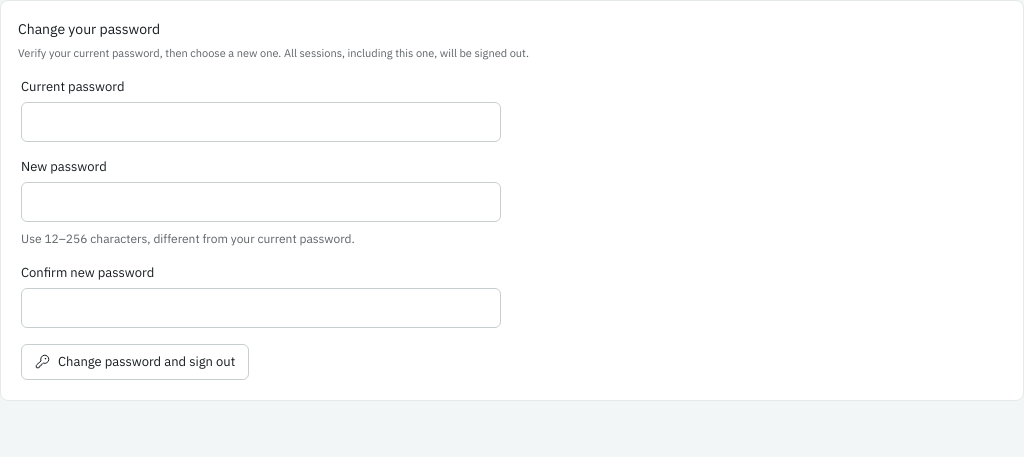
Scenario: operational feature views › requires matching new passwords without sending a request
Type "Old-password-2026" into the password field labelled "Current password". click: (261, 122)
box: [21,102,501,142]
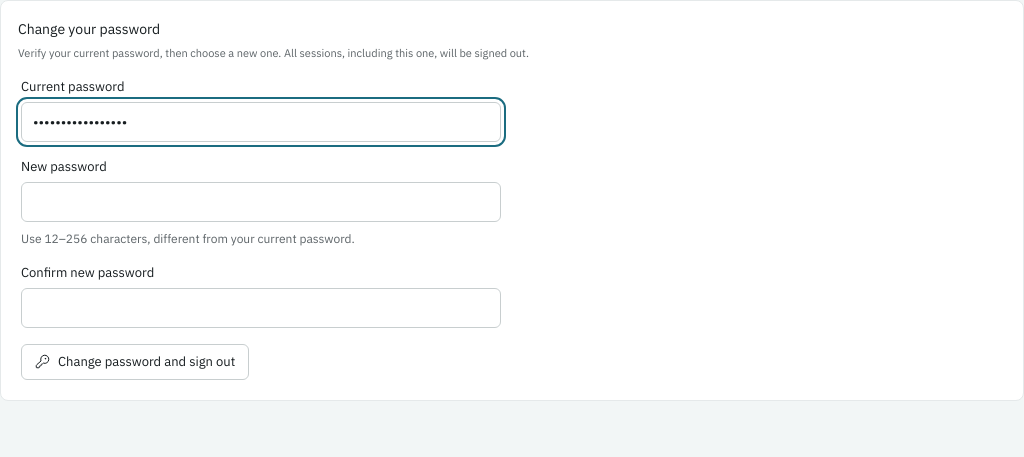
Type "New-password-2026" into the password field labelled "New password". click: (261, 202)
box: [21,182,501,222]
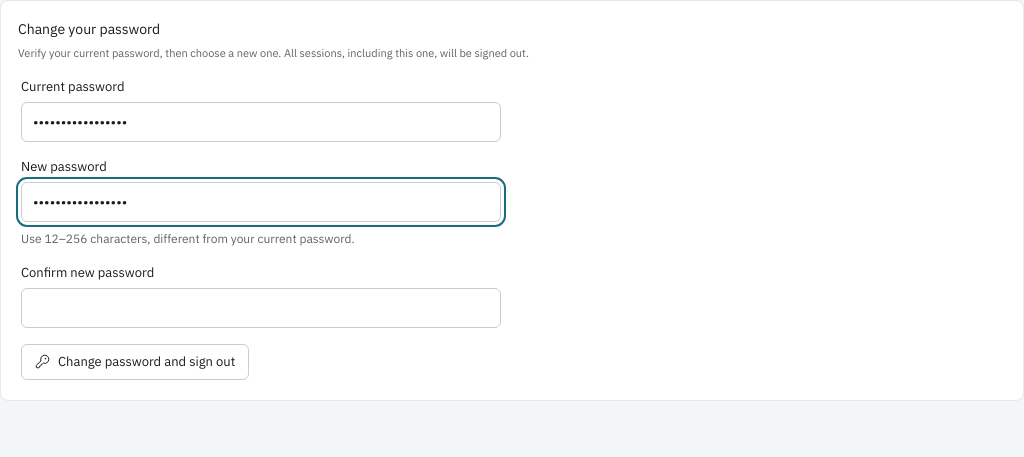
Type "Other-password-2026" into the password field labelled "Confirm new password". click: (261, 308)
box: [21,288,501,328]
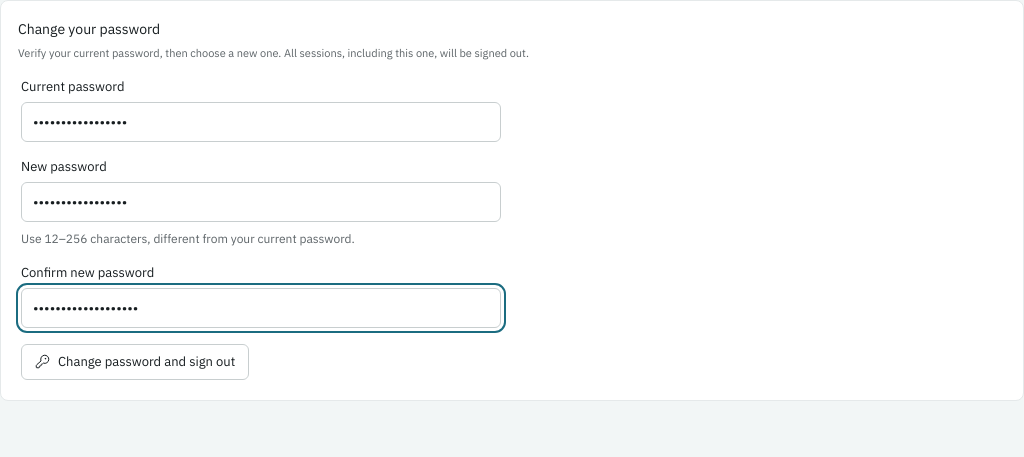
Click the button "Change password and sign out". click: (135, 362)
box: [21,344,249,380]
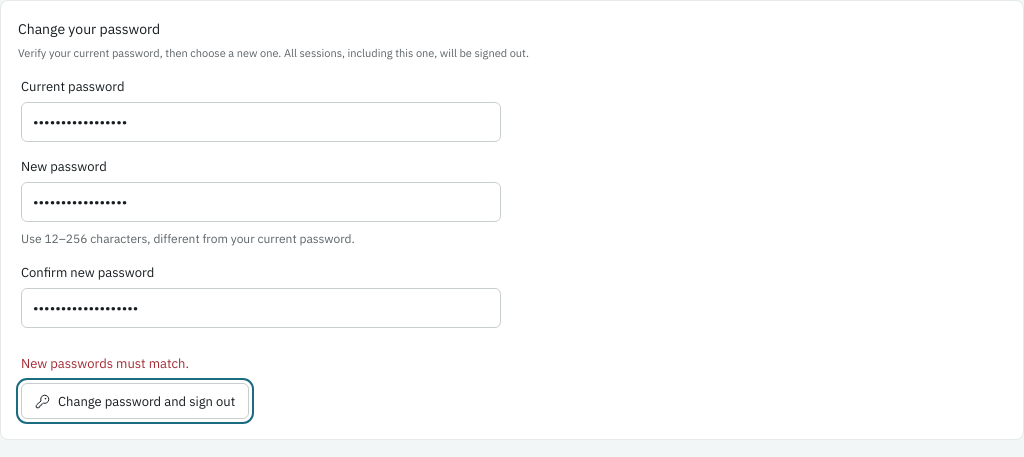
Expected: the message shows "New passwords must match", [21,355,189,372]
